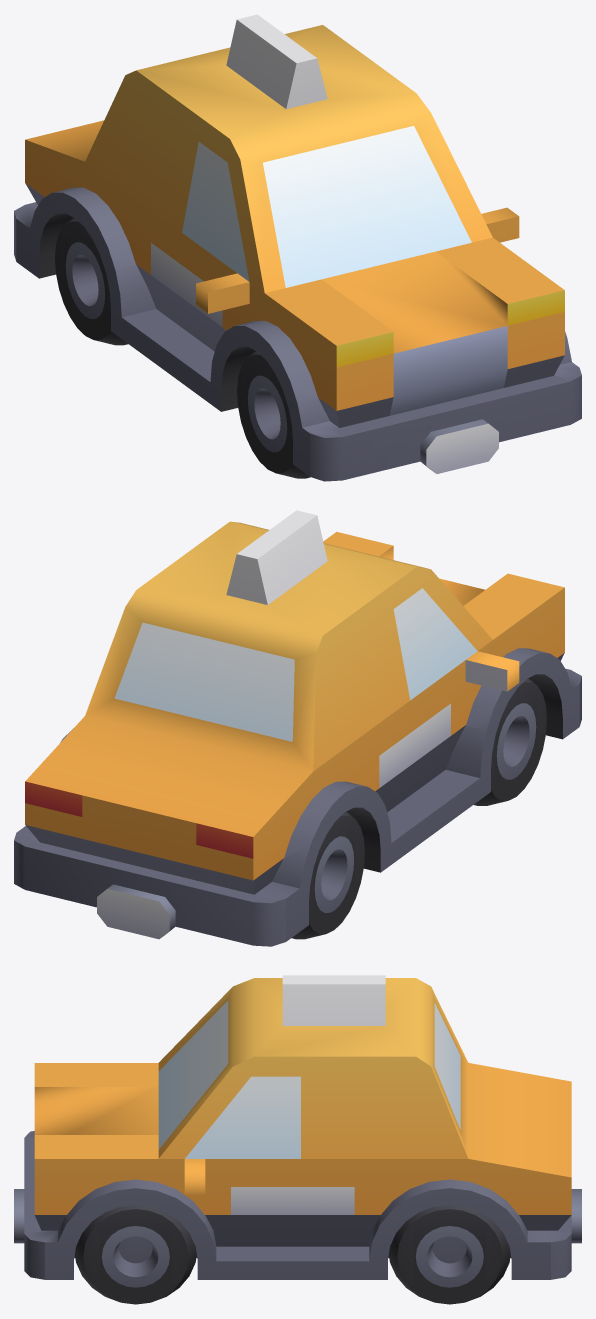
Rendered from car-taxi.obj.
The picture shows the model from 3 angles, top to bottom: view 1: azimuth 30°, elevation 25°; view 2: azimuth 150°, elevation 25°; view 3: azimuth 270°, elevation 25°; orthographic projection. The views are drawn at different scales.
Visible parts, largest first — view 1: body, wheel-front-right, wheel-back-right; view 2: body, wheel-back-right, wheel-front-right; view 3: body, wheel-front-left, wheel-back-left.
Part boxes in pixels (box(x1,y1,x2,y2)): body: box(14, 14, 581, 481); wheel-front-right: box(237, 350, 310, 478); wheel-back-right: box(55, 217, 128, 345); body: box(14, 510, 581, 946); wheel-back-right: box(291, 811, 364, 939); wheel-front-right: box(473, 678, 546, 805); body: box(14, 975, 581, 1279); wheel-front-left: box(75, 1205, 196, 1304); wheel-back-left: box(388, 1205, 510, 1304).
Bounding box in the file's own units: 1.5 × 1.5 × 2.75.
